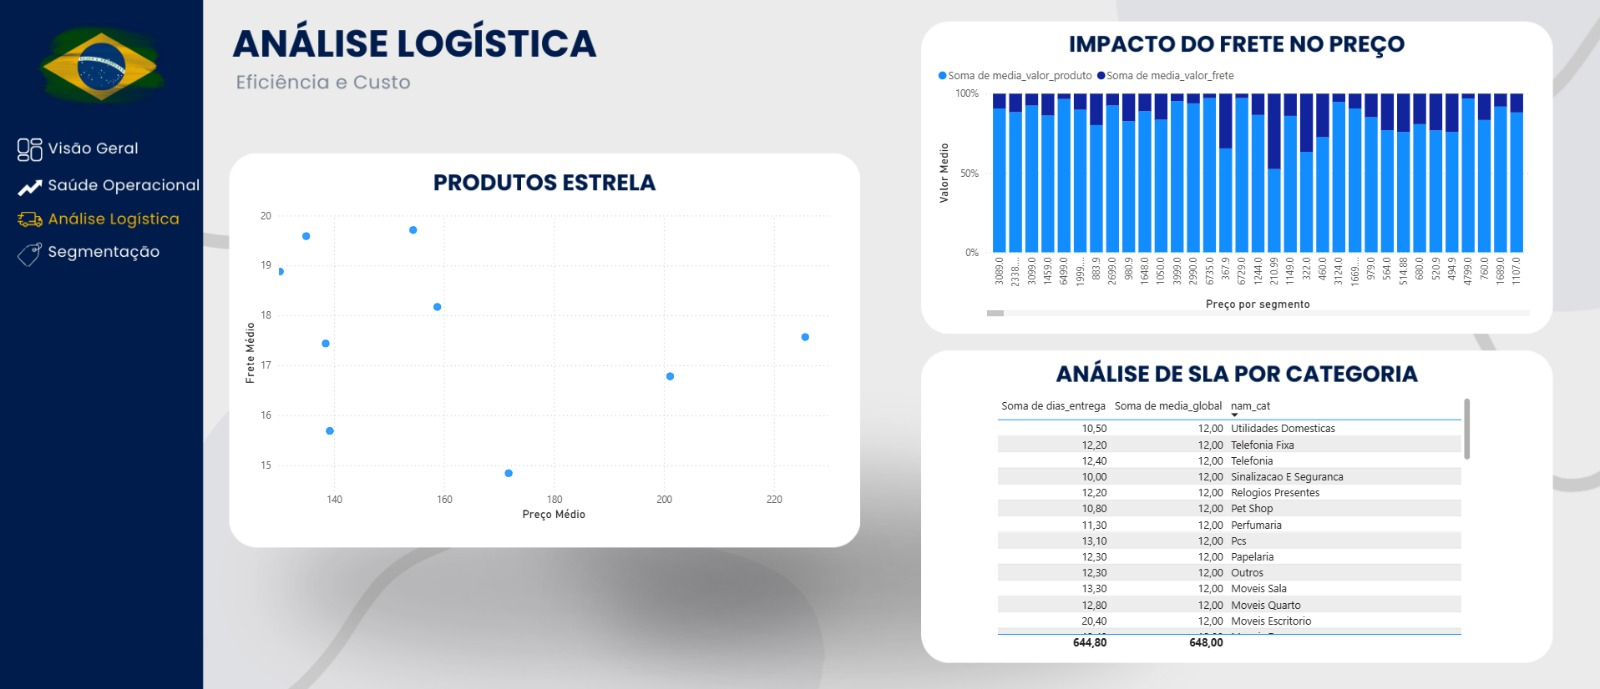

Layout of this report page (visuals, bound fields, positions):
{"tool":"powerbi","page":{"name":"Análise Logística","canvas":[2000,867],"ordinal":2},"visuals":[{"type":"tableEx","fields":{"Values":["Sum(Análise de SLA Logístico.dias_entrega)","Sum(Análise de SLA Logístico.media_global)","Análise de SLA Logístico.nam_cat"]},"box":[1238.2,492.6,601.5,325],"z":0},{"type":"hundredPercentStackedColumnChart","fields":{"Category":["Análise de Custo Logístico.segmento_preco"],"Y":["Sum(Análise de Custo Logístico.media_valor_produto)","Sum(Análise de Custo Logístico.media_valor_frete)"]},"box":[1164.7,75,748.5,326.5],"z":1000},{"type":"scatterChart","fields":{"Category":["Alta Receita e Baixo Frete.nam_cat"],"X":["Sum(Alta Receita e Baixo Frete.preco_medio)"],"Y":["Sum(Alta Receita e Baixo Frete.frete_medio)"]},"box":[298.5,255.9,750,400],"z":2000},{"type":"actionButton","box":[0,167.6,252.9,39.7],"z":3000},{"type":"actionButton","box":[0,207.4,252.9,39.7],"z":4000},{"type":"actionButton","box":[0,295.6,252.9,45.6],"z":5000}]}

Visuals, with their boxes on the page's 2000x867 design canvas (x1, y1, x2, y2). These are canvas units, not pixel positions in the 1600x689 screenshot, which may show the page scaled, cropped or inside an application window:
tableEx - Sum(Análise de SLA Logístico.dias_entrega) x Sum(Análise de SLA Logístico.media_global): bbox=(1238, 493, 1840, 818)
hundredPercentStackedColumnChart - Análise de Custo Logístico.segmento_preco x Sum(Análise de Custo Logístico.media_valor_produto): bbox=(1165, 75, 1913, 402)
scatterChart - Alta Receita e Baixo Frete.nam_cat x Sum(Alta Receita e Baixo Frete.preco_medio): bbox=(298, 256, 1048, 656)
actionButton: bbox=(0, 168, 253, 207)
actionButton: bbox=(0, 207, 253, 247)
actionButton: bbox=(0, 296, 253, 341)
